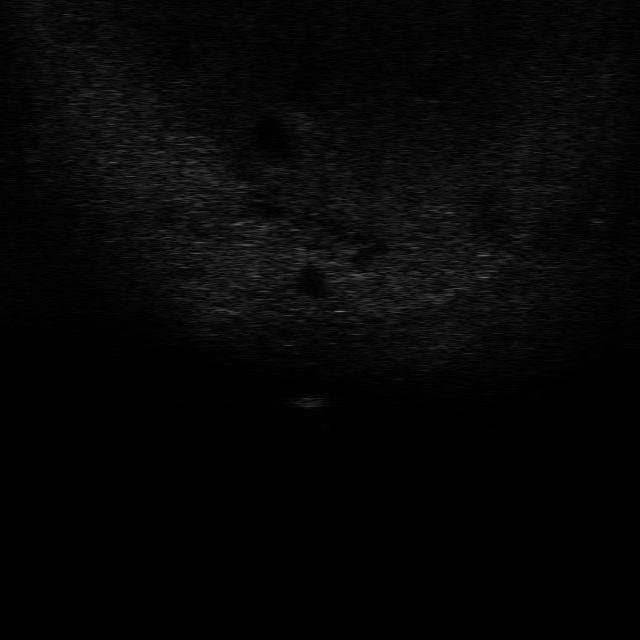cube: (288, 393, 328, 410)
